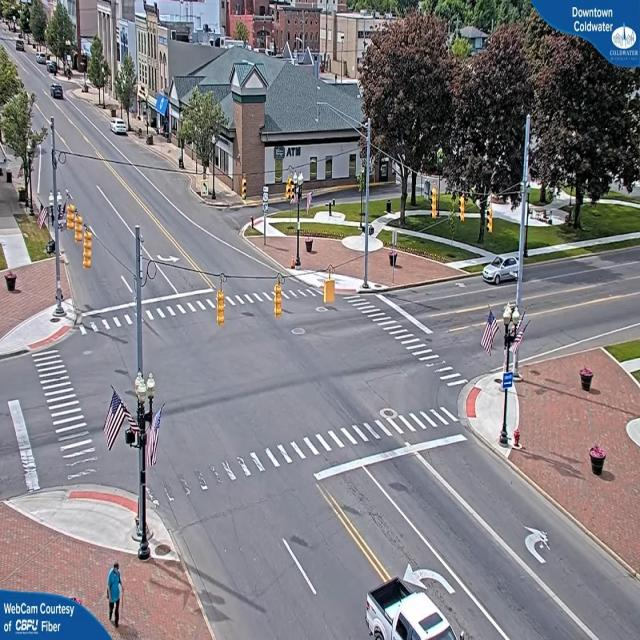car: (365, 572, 462, 640), (482, 256, 518, 284), (112, 121, 130, 138), (52, 85, 65, 99)
